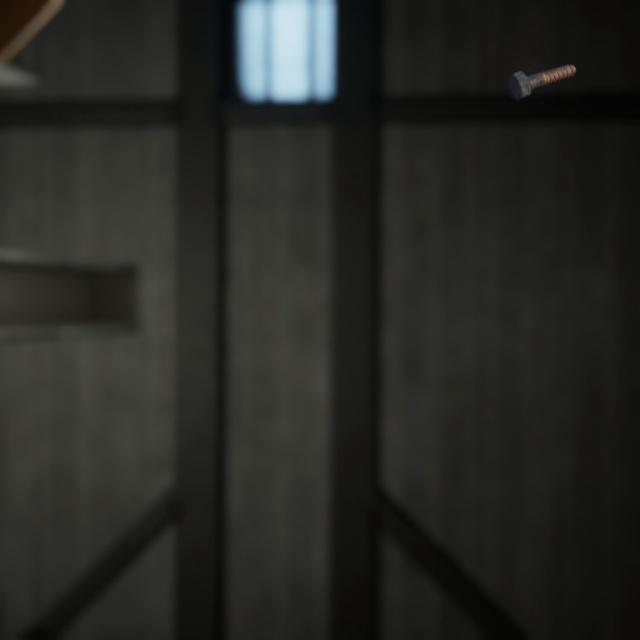bolt: (503, 49, 580, 95)
